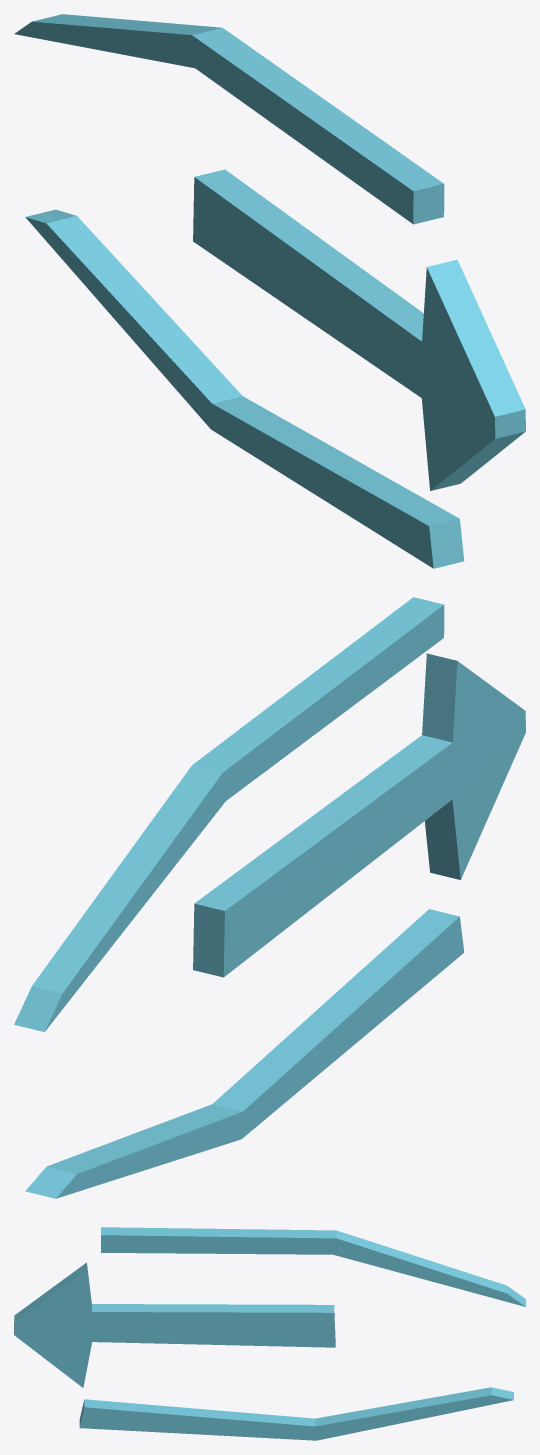
The model's file is Wind3.gltf.
3 renders of one model, top to bottom at view 1: azimuth 30°, elevation 25°; view 2: azimuth 150°, elevation 25°; view 3: azimuth 270°, elevation 25°, orthographic. The views are drawn at different scales.
Parts seen in each view (by area): view 1: Wind3_glb; view 2: Wind3_glb; view 3: Wind3_glb.
Part boxes in pixels (<box>): Wind3_glb: <box>14,14,525,568</box>; Wind3_glb: <box>14,597,525,1198</box>; Wind3_glb: <box>14,1227,525,1440</box>.
Bounding box in the file's own units: 0.1504 × 1.81 × 4.09.
